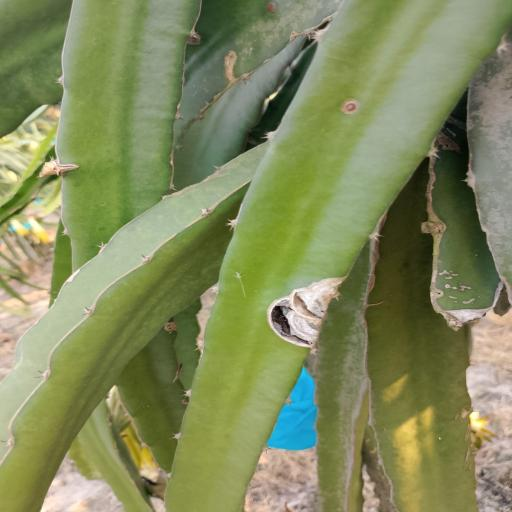stemcanker: (328, 86, 377, 123), (437, 267, 481, 306), (342, 98, 364, 120), (263, 0, 287, 17), (441, 283, 469, 294)
